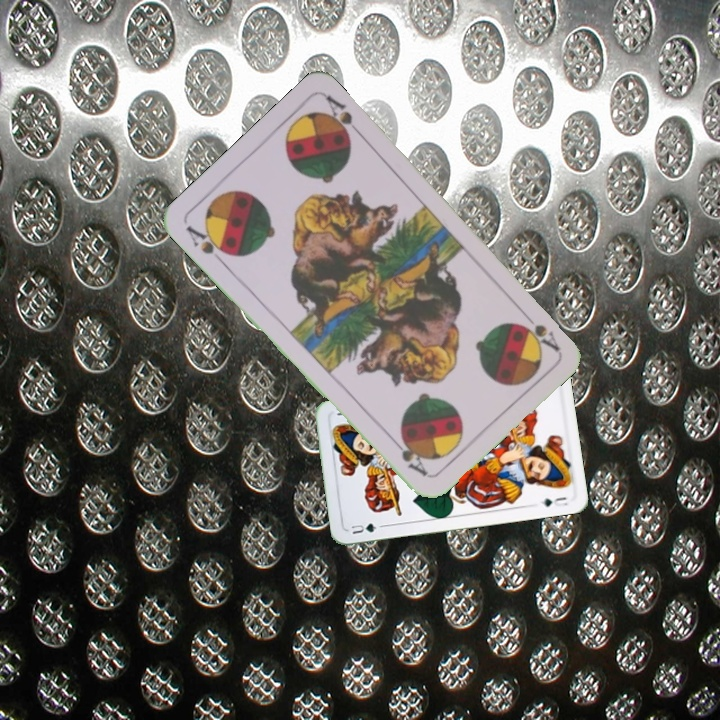GU: (347, 519, 385, 537)
SA: (182, 221, 235, 268), (516, 305, 562, 353)
